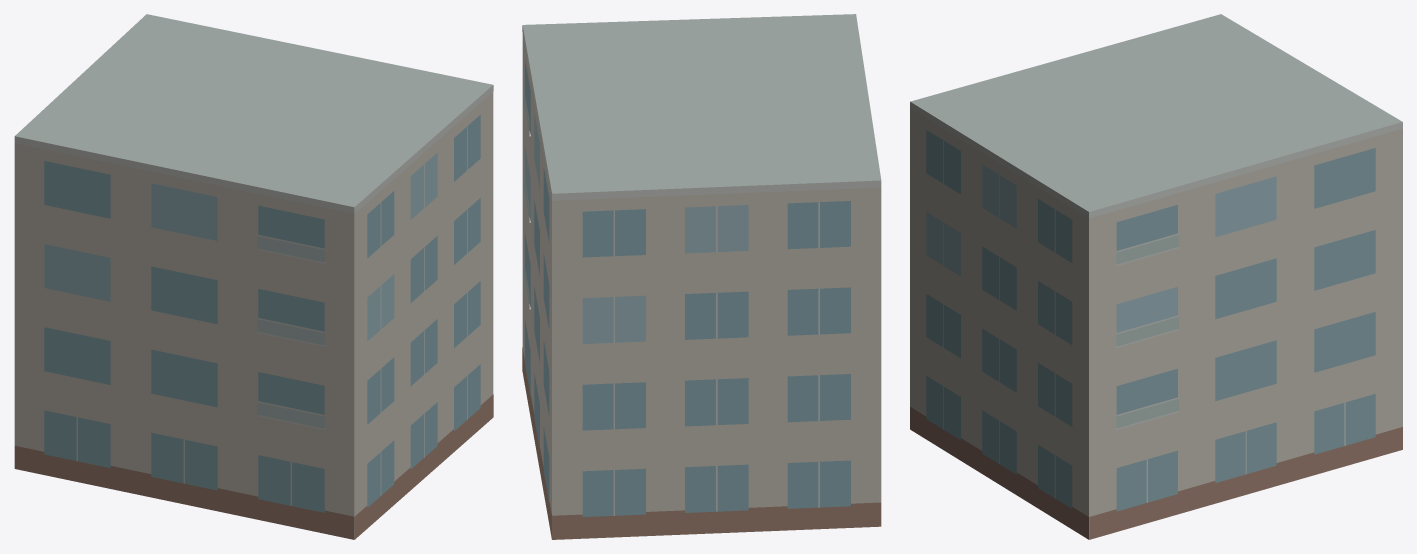
The model's file is survey-upis-32946467.glb.
The picture shows the model from 3 angles, left to right: view 1: azimuth 30°, elevation 25°; view 2: azimuth 150°, elevation 25°; view 3: azimuth 270°, elevation 25°; orthographic projection. The views are drawn at different scales.
Visible parts, largest first — view 1: survey-upis-32946467.tmp; view 2: survey-upis-32946467.tmp; view 3: survey-upis-32946467.tmp.
Part boxes in pixels (x1,y1,x2,y2): survey-upis-32946467.tmp: [14, 14, 493, 539]; survey-upis-32946467.tmp: [522, 14, 881, 539]; survey-upis-32946467.tmp: [910, 14, 1402, 539].
Bounding box in the file's own units: 15.81 × 12.2 × 16.63.
